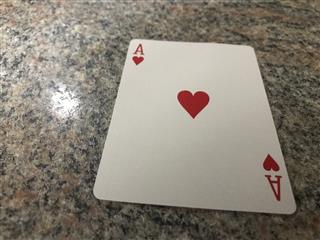AceOfHearts: (91, 37, 297, 214)
